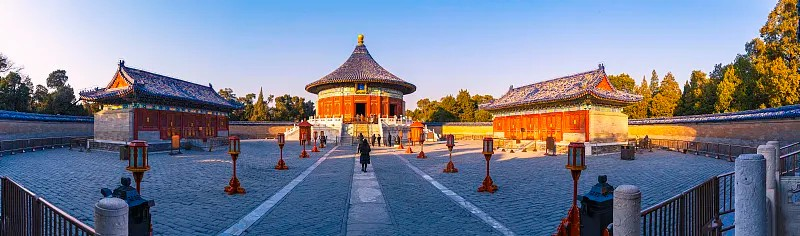Heaven: (305, 35, 416, 122)
